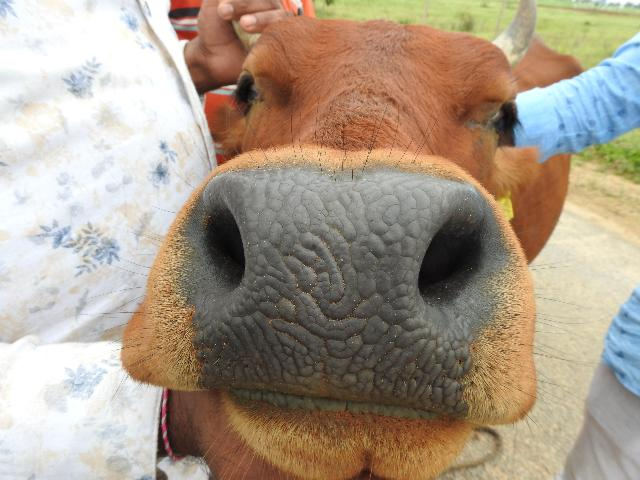Muzzle: (232, 176, 412, 400)
